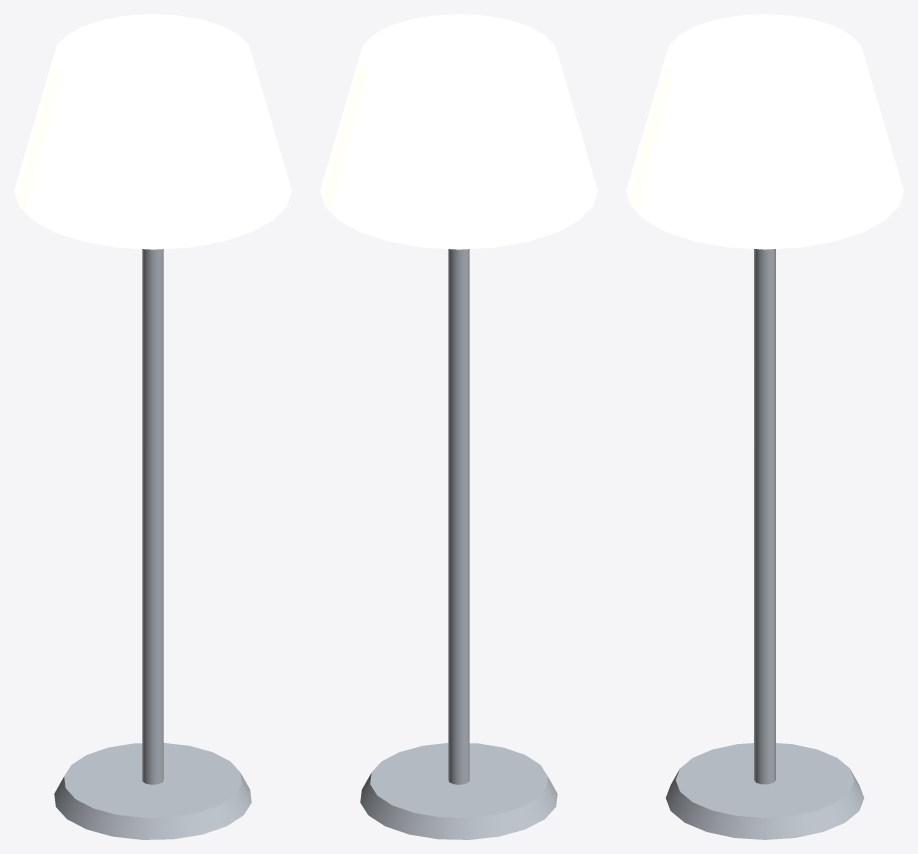
File: furn_lamp_ph.glb
3 renders of one model, left to right at view 1: azimuth 30°, elevation 25°; view 2: azimuth 150°, elevation 25°; view 3: azimuth 270°, elevation 25°, orthographic.
Parts seen in each view (by area): view 1: furn_lamp; view 2: furn_lamp; view 3: furn_lamp.
Boxes of the visible parts, x1,y1,x2,y2 form: furn_lamp: (14,14,291,839); furn_lamp: (320,14,597,839); furn_lamp: (626,14,903,839).
Size of the model in its own units: 0.56 by 1.65 by 0.56.
